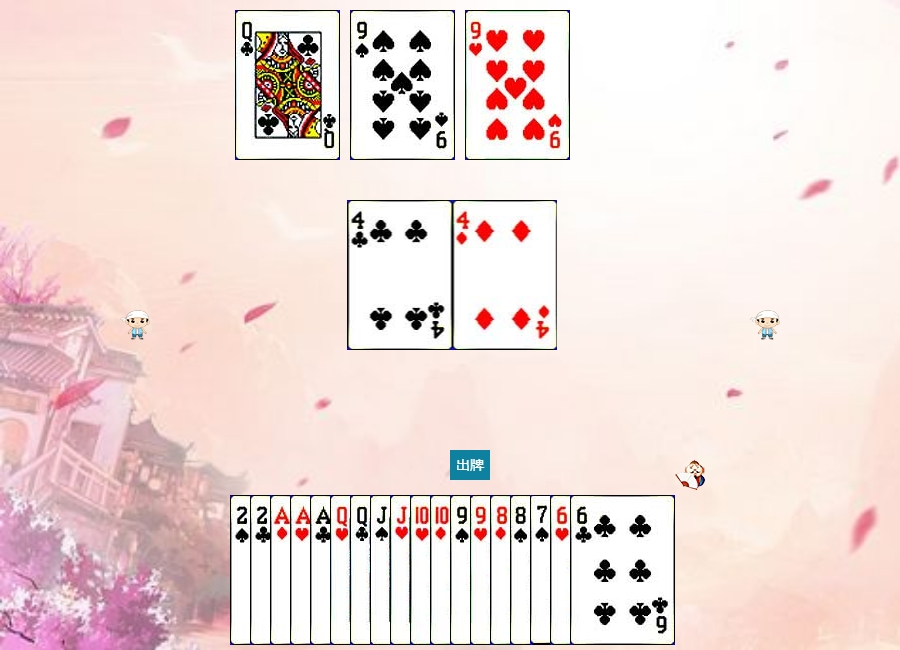10~1: (430, 495, 535, 645)
10~3: (410, 495, 515, 645)
11~3: (390, 495, 495, 645)
11~4: (370, 495, 475, 645)
12~2: (235, 10, 340, 160), (350, 495, 455, 645)
12~3: (330, 495, 435, 645)
14~1: (270, 495, 375, 645)
14~2: (310, 495, 415, 645)
14~3: (290, 495, 395, 645)
15~2: (250, 495, 355, 645)
15~4: (230, 495, 335, 645)
4~1: (453, 200, 558, 350)
4~2: (348, 200, 453, 350)
6~2: (570, 495, 675, 645)
6~3: (550, 495, 655, 645)
7~4: (530, 495, 635, 645)
8~1: (490, 495, 595, 645)
8~4: (510, 495, 615, 645)
9~3: (465, 10, 570, 160), (470, 495, 575, 645)
9~4: (350, 10, 455, 160), (450, 495, 555, 645)
